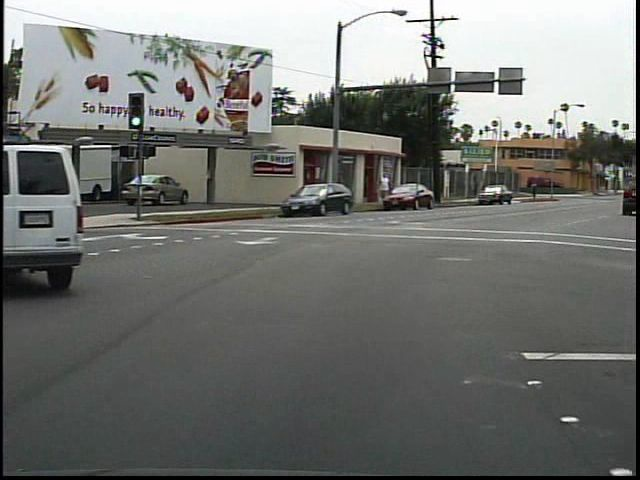person: (374, 166, 396, 210), (527, 178, 541, 203)
